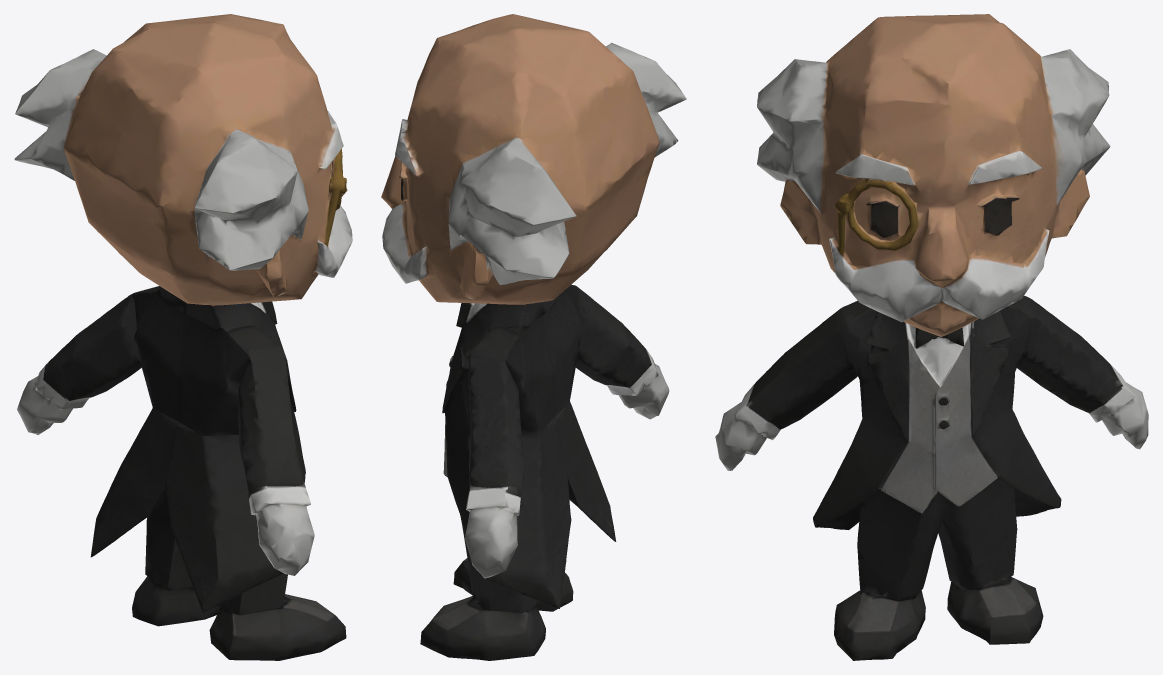
Rendered from dealer.glb.
3 renders of one model, left to right at view 1: azimuth 30°, elevation 25°; view 2: azimuth 150°, elevation 25°; view 3: azimuth 270°, elevation 25°, orthographic.
Visible parts, largest first — view 1: tripo_node_3035603e-f91a-4210-8774-322da748986a; view 2: tripo_node_3035603e-f91a-4210-8774-322da748986a; view 3: tripo_node_3035603e-f91a-4210-8774-322da748986a.
Part boxes in pixels (x1,y1,x2,y2): tripo_node_3035603e-f91a-4210-8774-322da748986a: (14,14,352,660); tripo_node_3035603e-f91a-4210-8774-322da748986a: (381,14,686,660); tripo_node_3035603e-f91a-4210-8774-322da748986a: (715,14,1148,660).
Bounding box in the file's own units: 0.4507 × 1 × 0.6593.
1 material, 1 textured.
